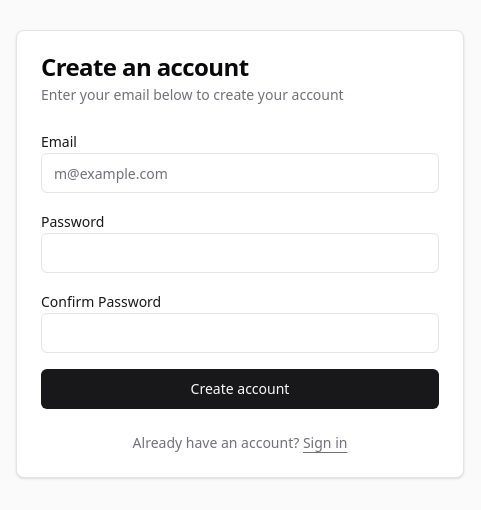
Test: Signup page › short password shows validation error
Type "test@example.com" into the field with id "email".
click(240, 173); type("test@example.com")  # box [41, 153, 439, 193]
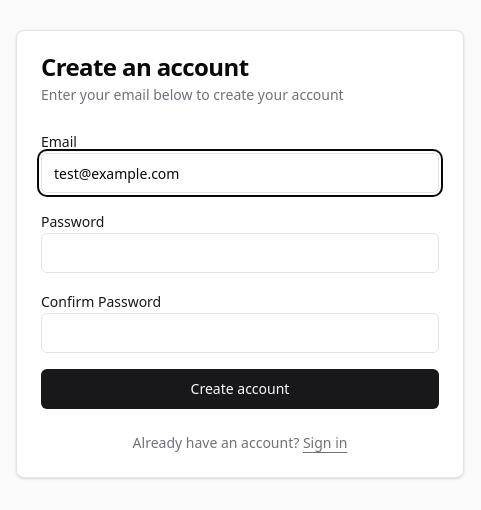
Type "short" into the password field labelled "Password".
click(240, 253); type("short")  # box [41, 233, 439, 273]
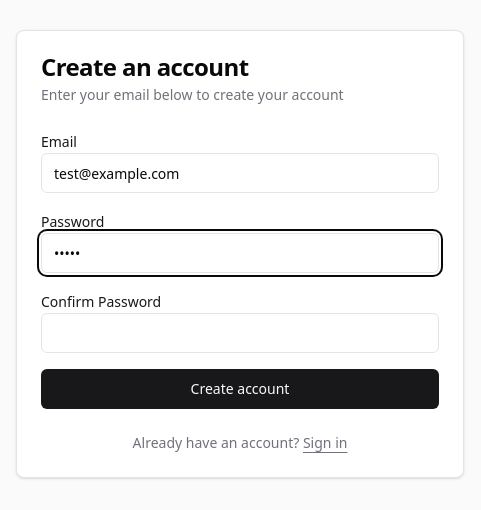
Type "short" into the password field with id "confirmPassword".
click(240, 333); type("short")  # box [41, 313, 439, 353]
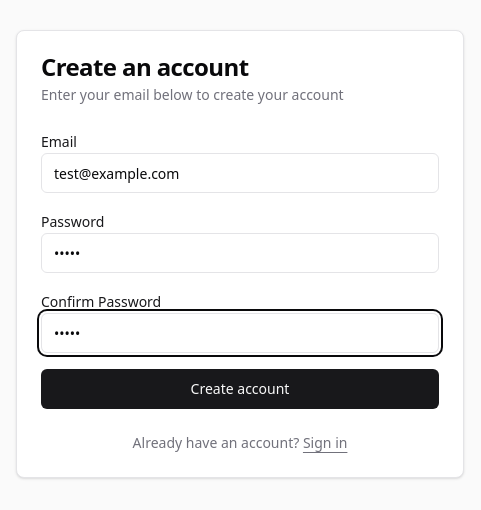
Click the button "Create account".
click(240, 389)  # box [41, 369, 439, 409]
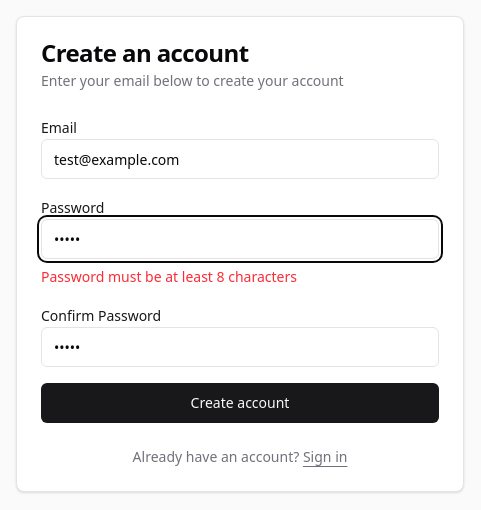
Result: the text "Password must be at least 8 characters" is shown at [41, 267, 297, 286]
